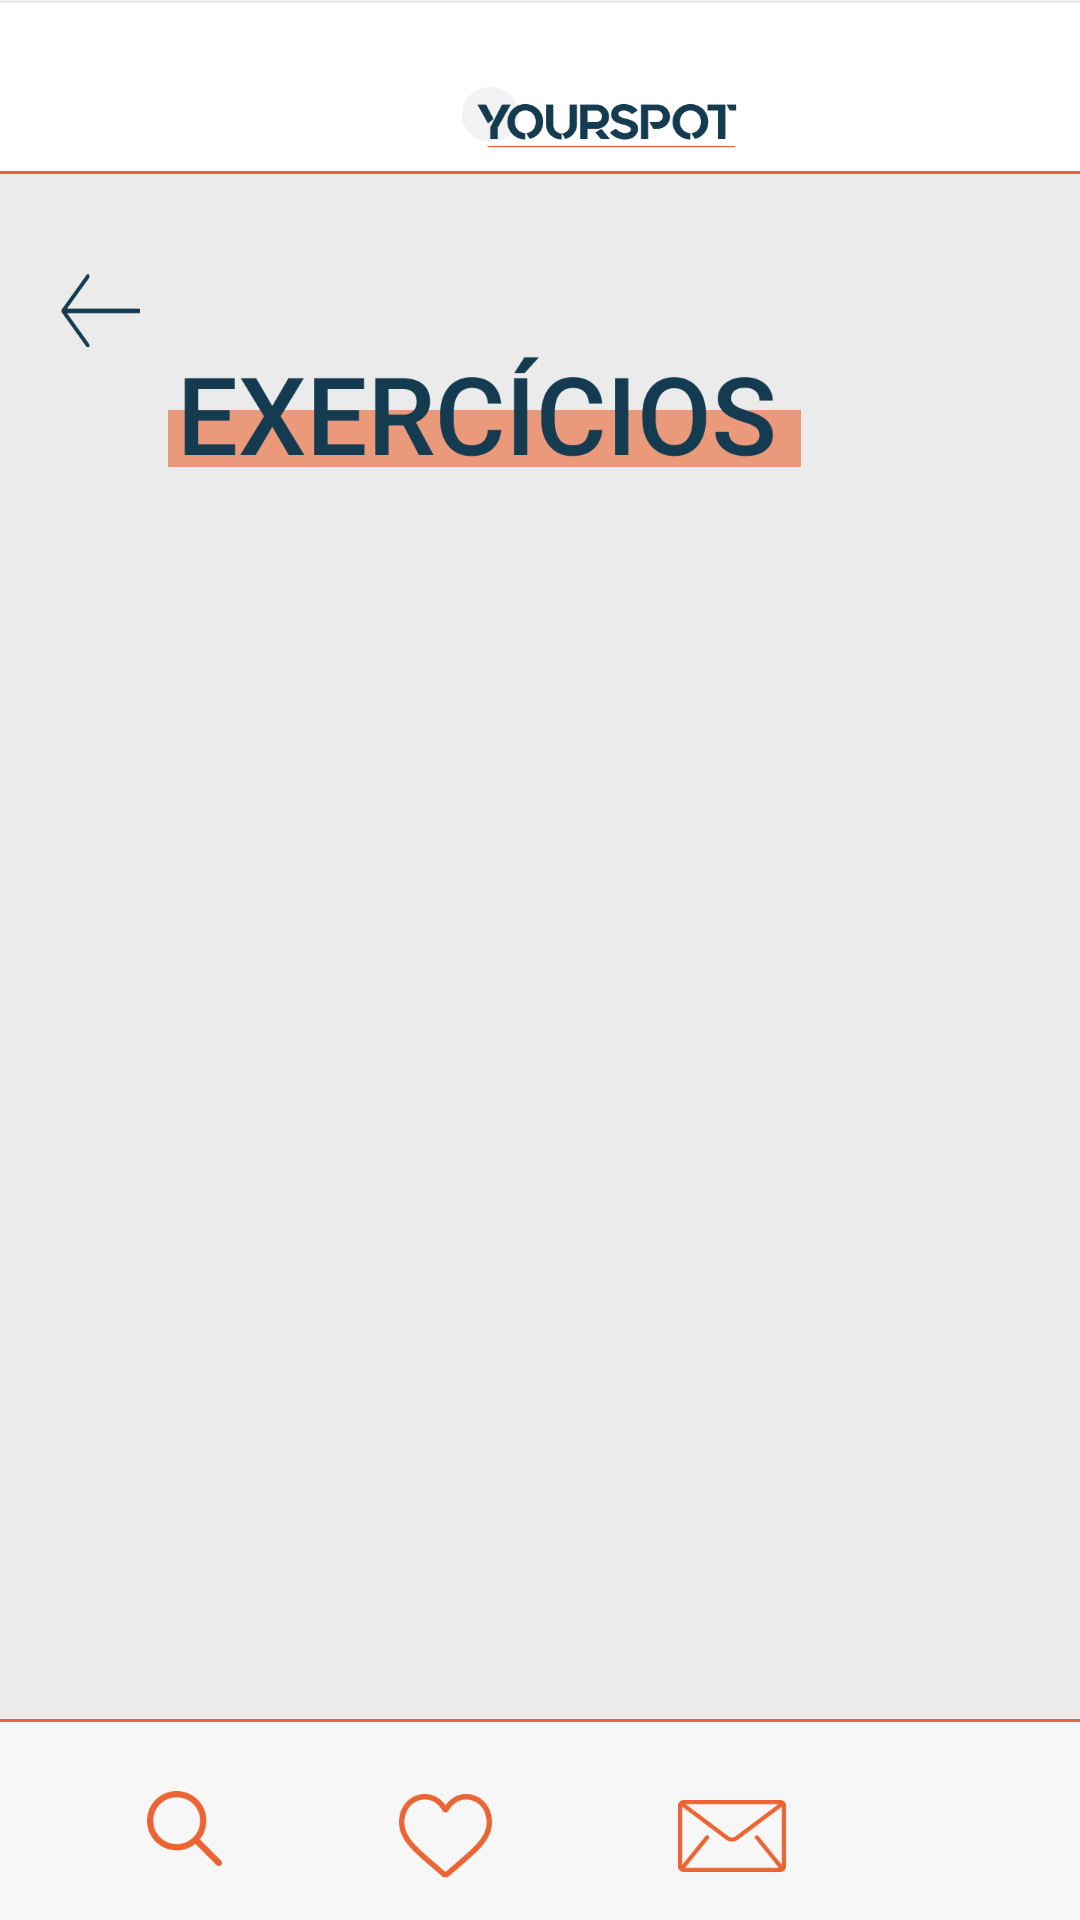

Named icons in this screenshot (1080*1920) and their centers, [x,y]:
iconecoracao menuinf: [445,1836]
iconemensagem menuinf: [732,1836]
iconepesquisa menuinf: [184,1828]
seta retorno: [100,310]
